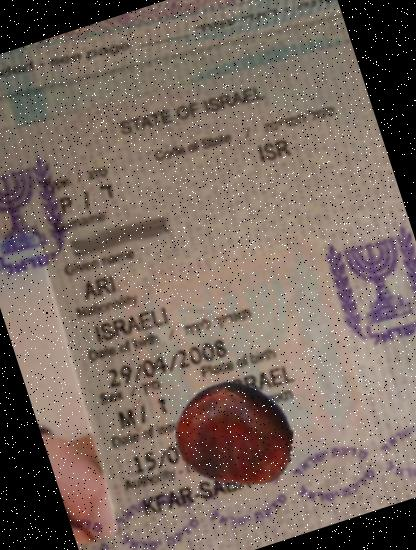Chestnut: (158, 358, 308, 508)
